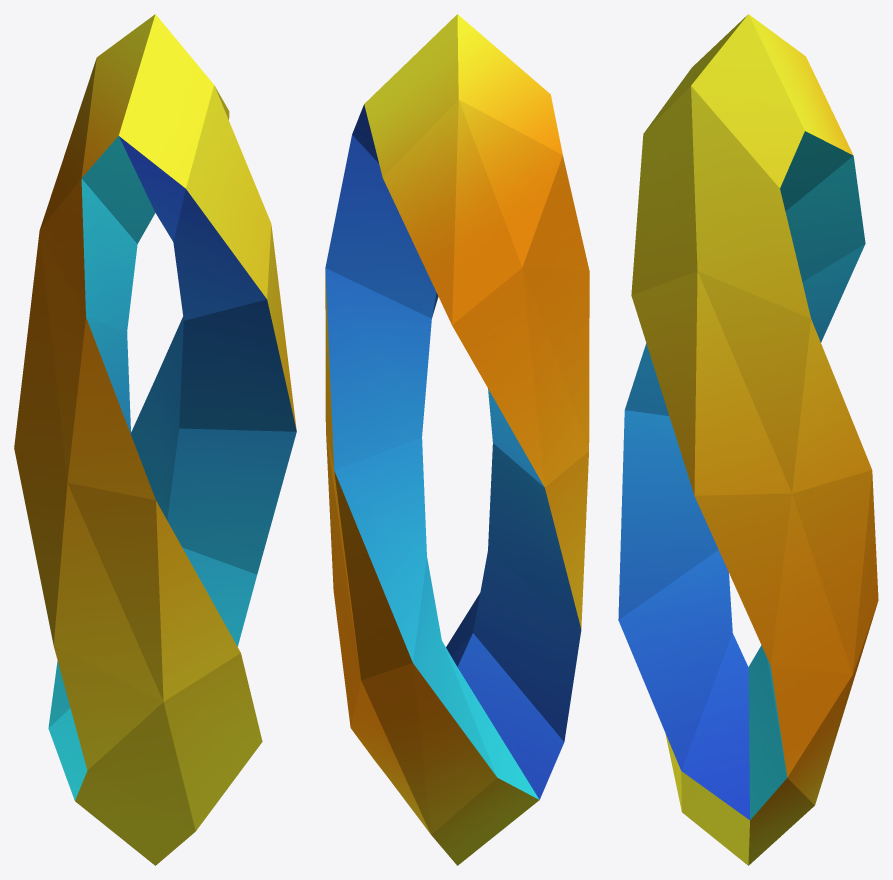
File: Monument_Offices.fbx
3 views of the same model, side by side, from view 1: azimuth 30°, elevation 25°; view 2: azimuth 150°, elevation 25°; view 3: azimuth 270°, elevation 25° (orthographic).
Parts seen in each view (by area): view 1: Monument_Offices; view 2: Monument_Offices; view 3: Monument_Offices.
Part boxes in pixels (<box>): Monument_Offices: <box>14,14,296,865</box>; Monument_Offices: <box>325,14,589,865</box>; Monument_Offices: <box>618,14,878,865</box>.
Bounding box in the file's own units: 525 × 1869 × 517.
